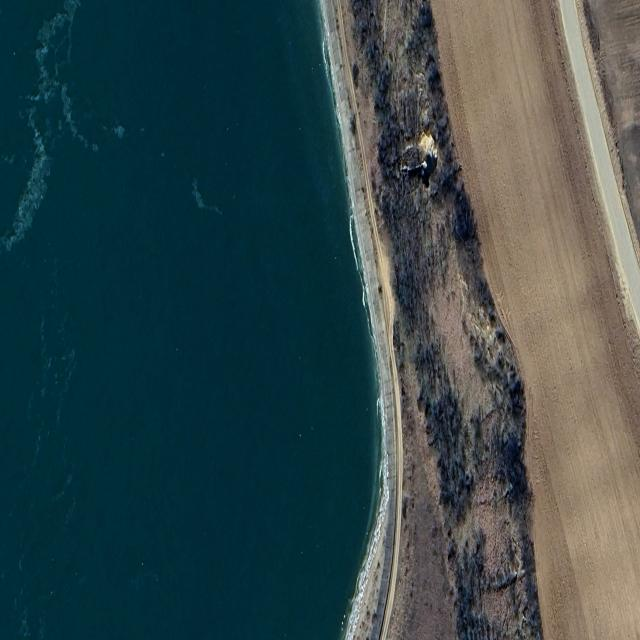bare-soil: (428, 0, 640, 639), (331, 1, 459, 639), (577, 0, 640, 281)
building: (557, 0, 640, 336)
tree: (348, 0, 545, 639)
water: (0, 0, 401, 639)
